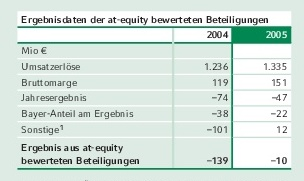table: (0, 0, 304, 181)
